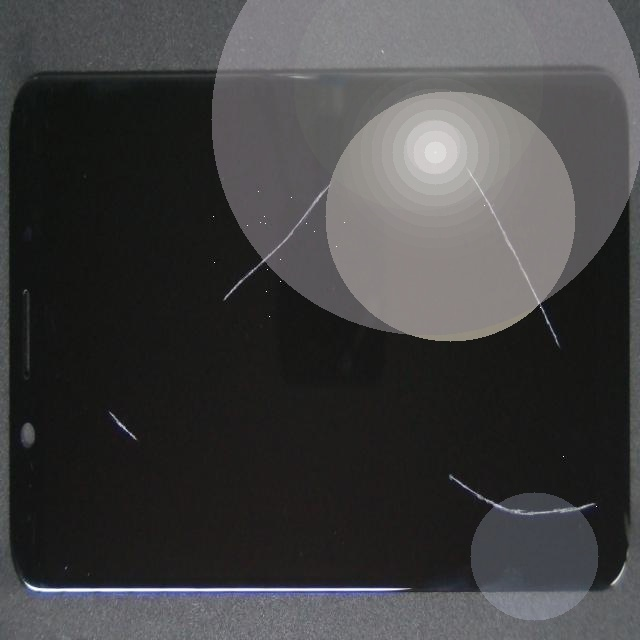scratch: (163, 0, 640, 353), (284, 273, 640, 640), (98, 127, 320, 462)
